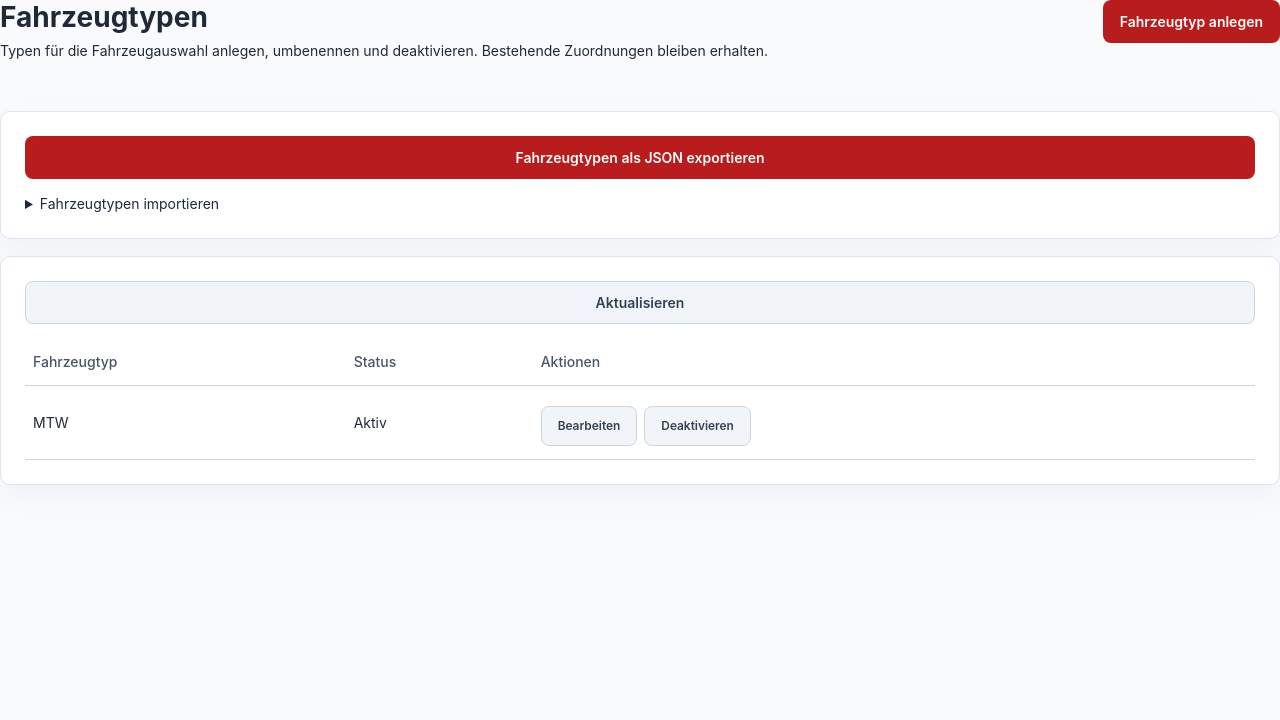
Test: keeps the entered name when a duplicate type is rejected
Expected: the text "MTW" is shown, [25,386,346,459]
Step 1. Click the button "Fahrzeugtyp anlegen" → click(1191, 22), box [1103,0,1279,43]
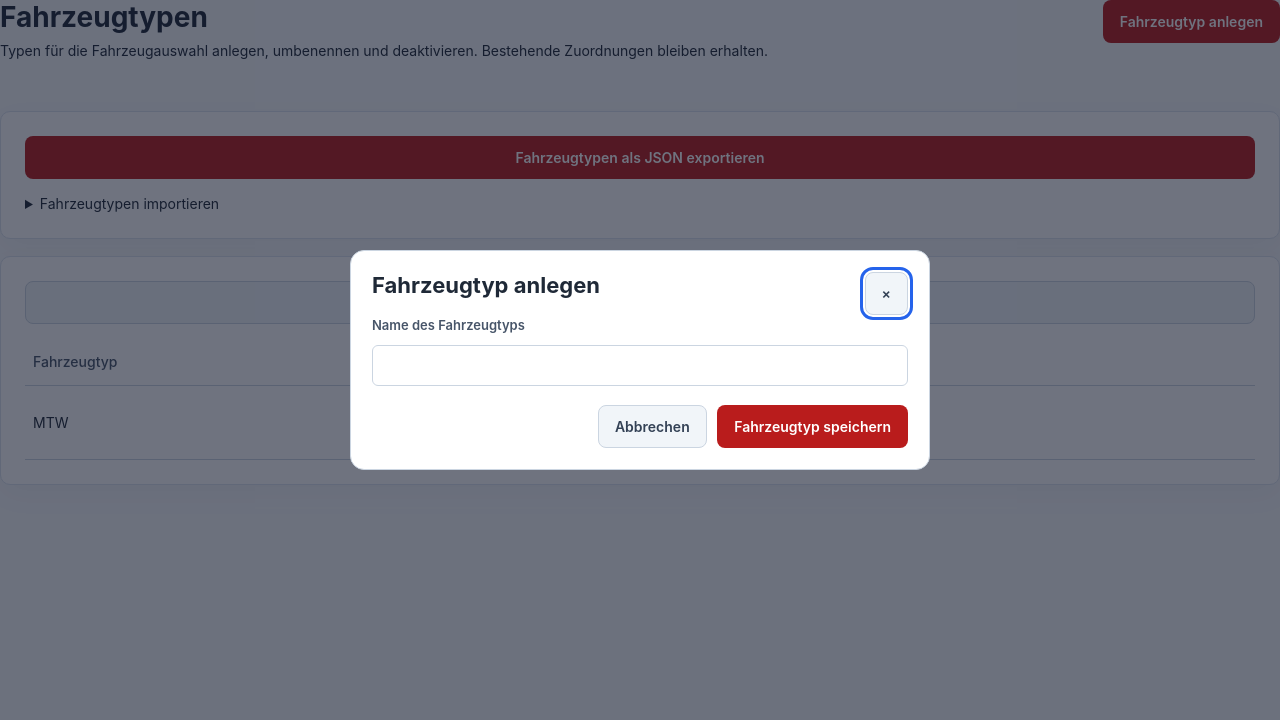
Step 2. Type "MTW" into the field labelled "Name des Fahrzeugtyps" → (640, 365), box [372,345,908,386]
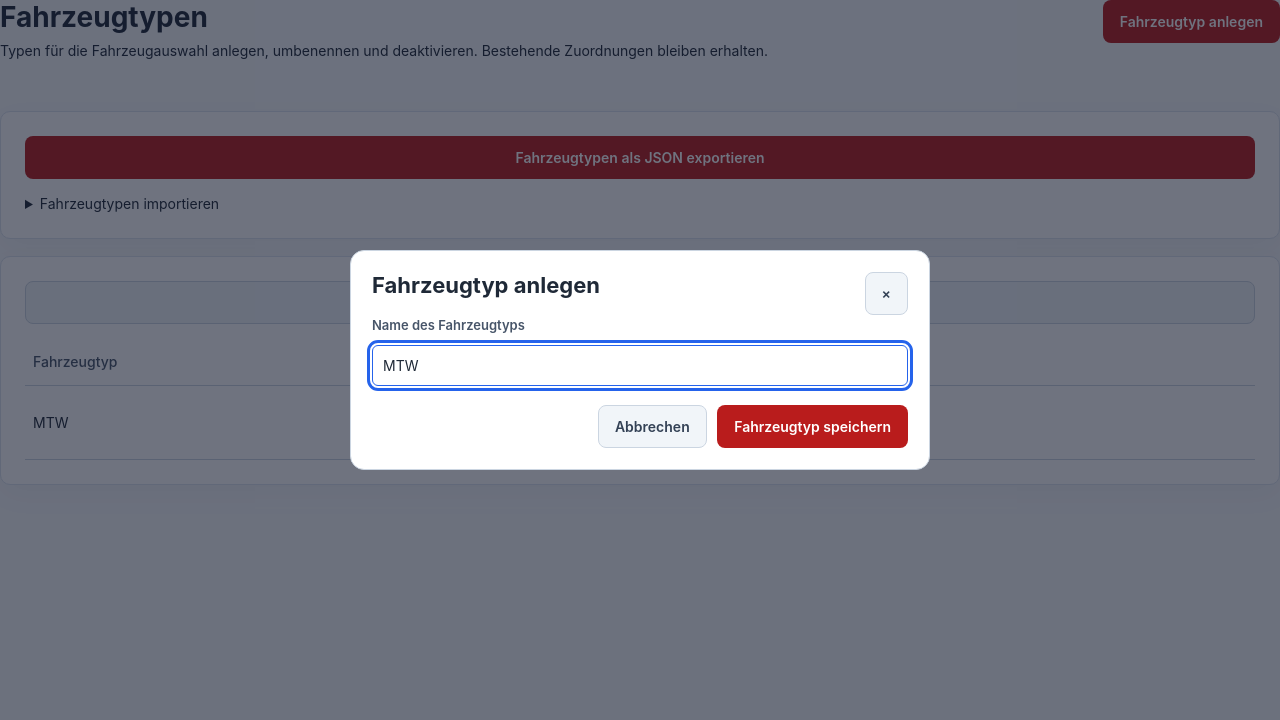
Step 3. Click the button "Fahrzeugtyp speichern" → click(813, 426), box [717,405,908,448]
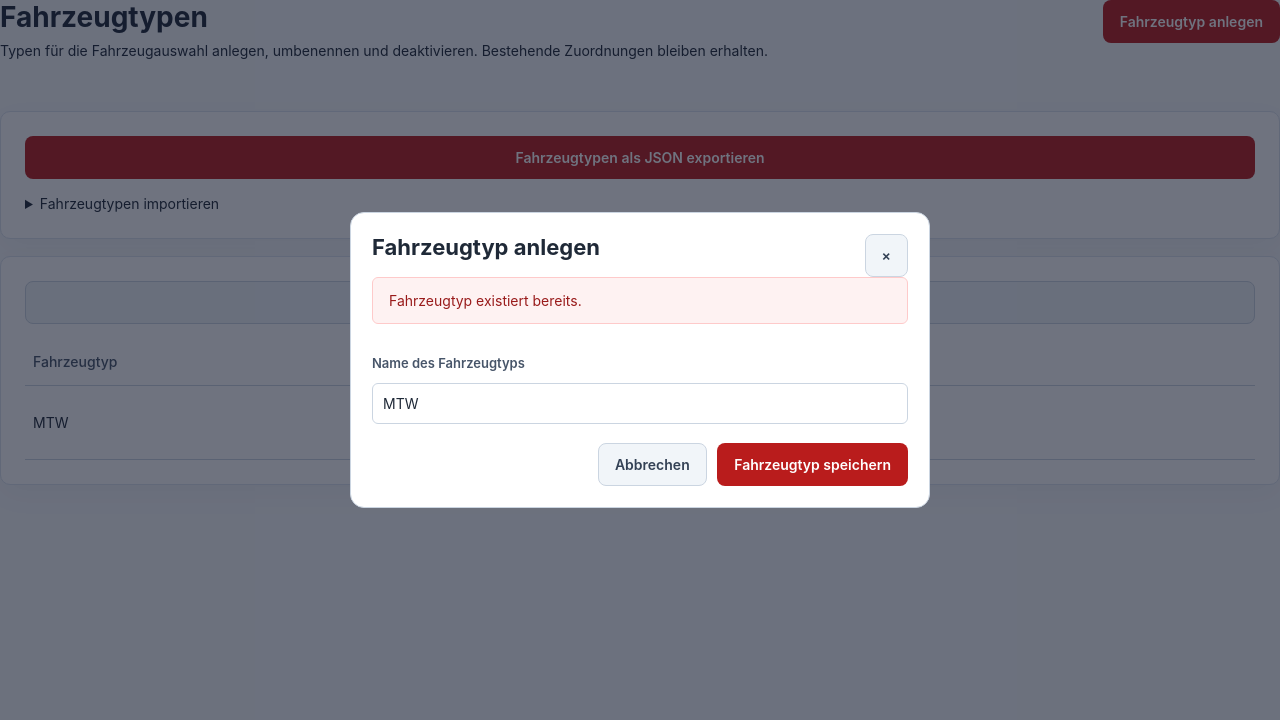
Now the message shows "existiert bereits", box [389,292,582,309]
